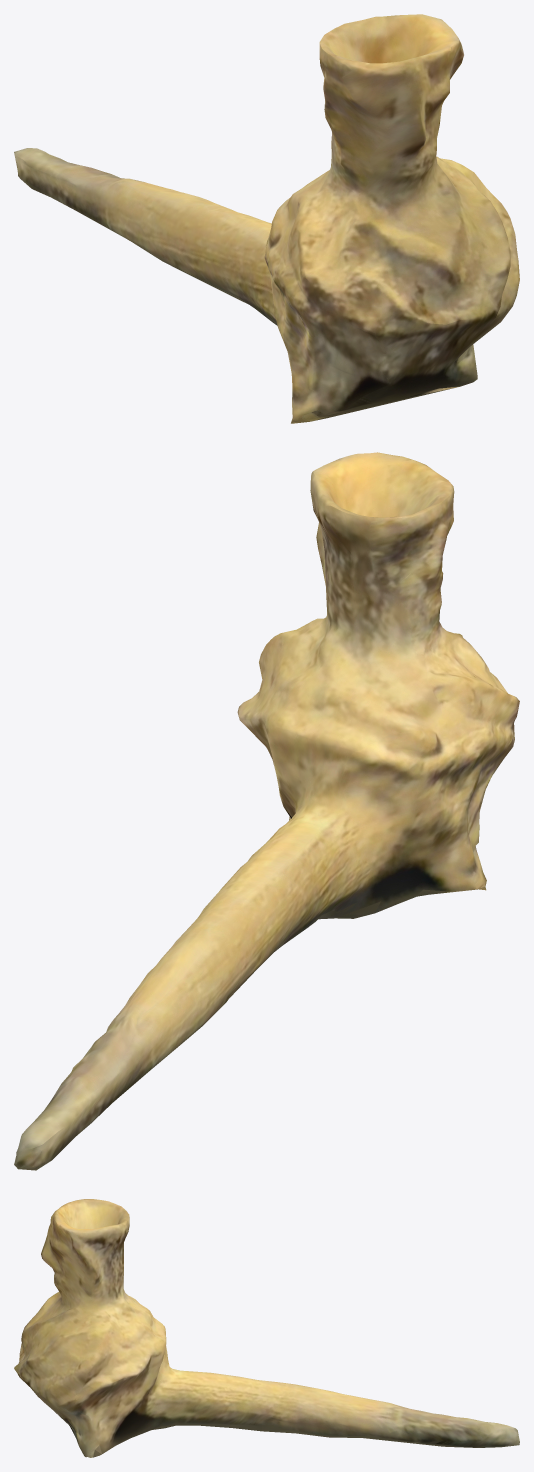
File: new_qlone.glb
3 views of the same model, one above another, from view 1: azimuth 30°, elevation 25°; view 2: azimuth 150°, elevation 25°; view 3: azimuth 270°, elevation 25° (orthographic). The views are drawn at different scales.
Visible parts, largest first — view 1: Object_2; view 2: Object_2; view 3: Object_2.
Part boxes in pixels (left/top/right/bottom): Object_2: left=14, top=14, right=519, bottom=423; Object_2: left=14, top=452, right=519, bottom=1170; Object_2: left=14, top=1199, right=519, bottom=1457.
Size of the model in its own units: 37.6 by 63.6 by 122.
1 material, 1 textured.
